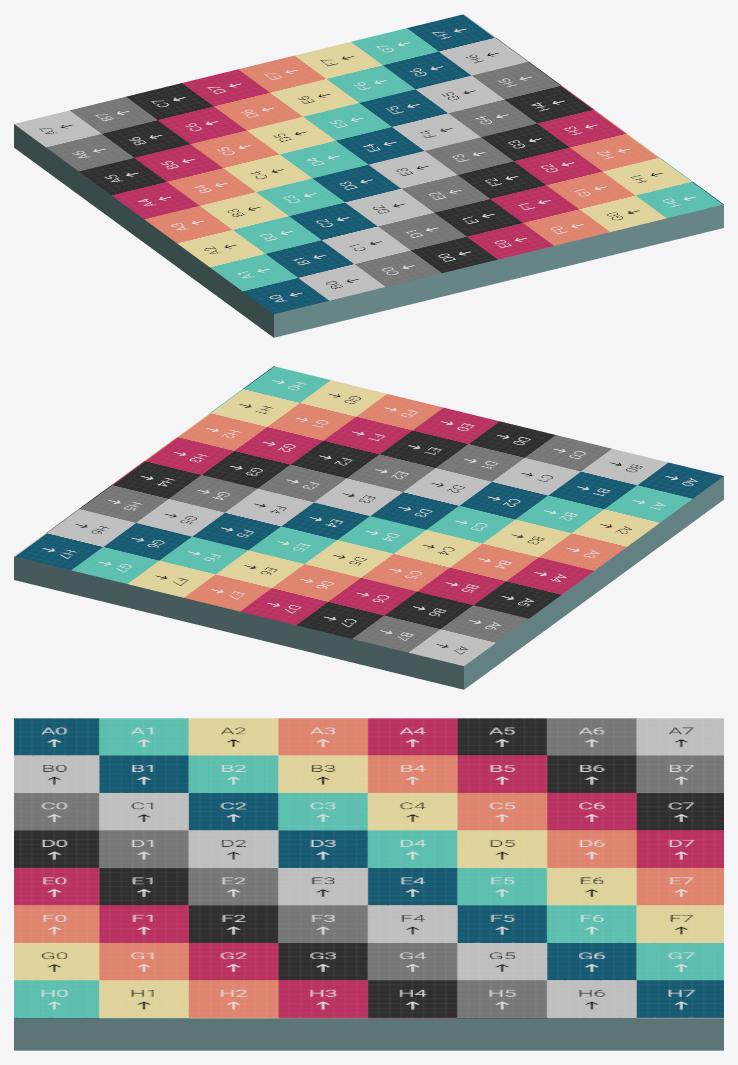
The model's file is map.fbx.
3 views of the same model, one above another, from view 1: azimuth 30°, elevation 25°; view 2: azimuth 150°, elevation 25°; view 3: azimuth 270°, elevation 25° (orthographic). The views are drawn at different scales.
Visible parts, largest first — view 1: pCube1; view 2: pCube1; view 3: pCube1.
Boxes of the visible parts, left/top/right/bottom form: pCube1: left=14, top=14, right=723, bottom=337; pCube1: left=14, top=366, right=723, bottom=689; pCube1: left=14, top=718, right=723, bottom=1050.
Size of the model in its own units: 20 by 1 by 20.
1 material, 1 textured.
